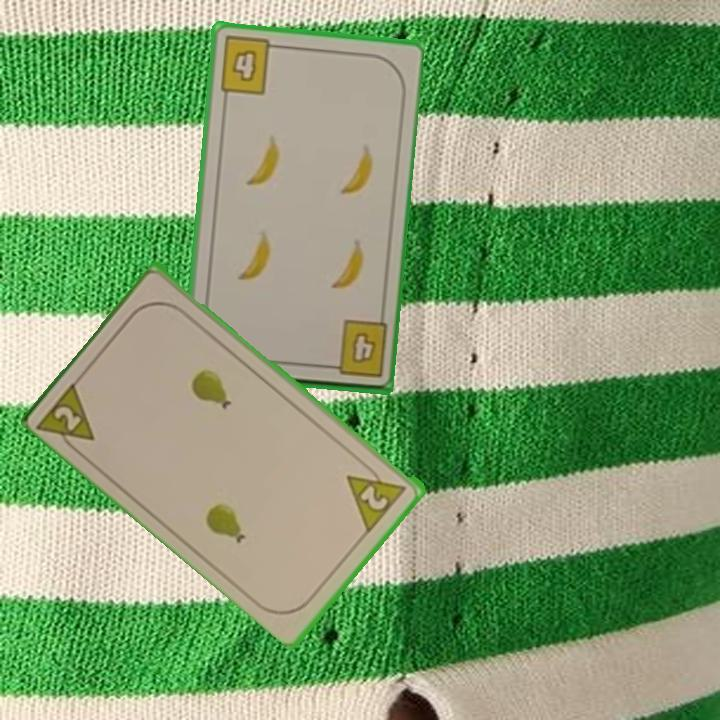2p: (35, 376, 99, 459), (357, 481, 392, 514)
4b: (320, 317, 389, 381), (216, 33, 283, 98)
